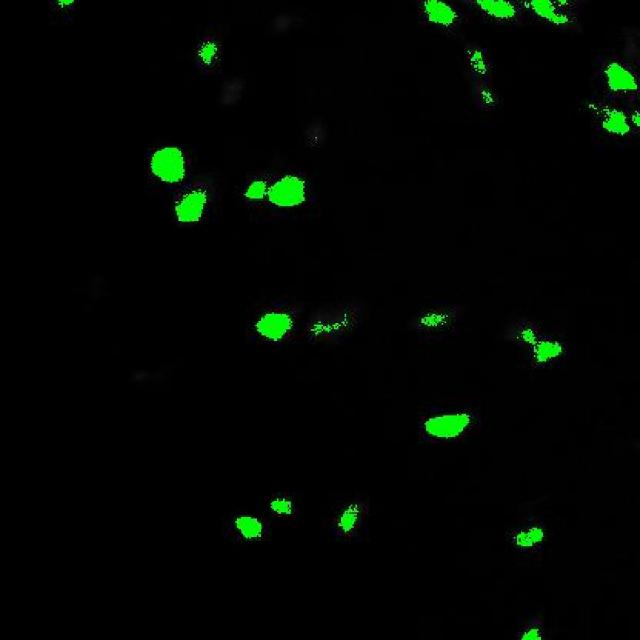Cell: (268, 178, 306, 210), (426, 412, 469, 439), (153, 148, 185, 181), (176, 192, 205, 228), (606, 63, 637, 96), (258, 314, 292, 342), (428, 0, 456, 24), (238, 517, 262, 540), (534, 341, 561, 361), (518, 527, 542, 547), (272, 495, 292, 517), (342, 509, 356, 532)
